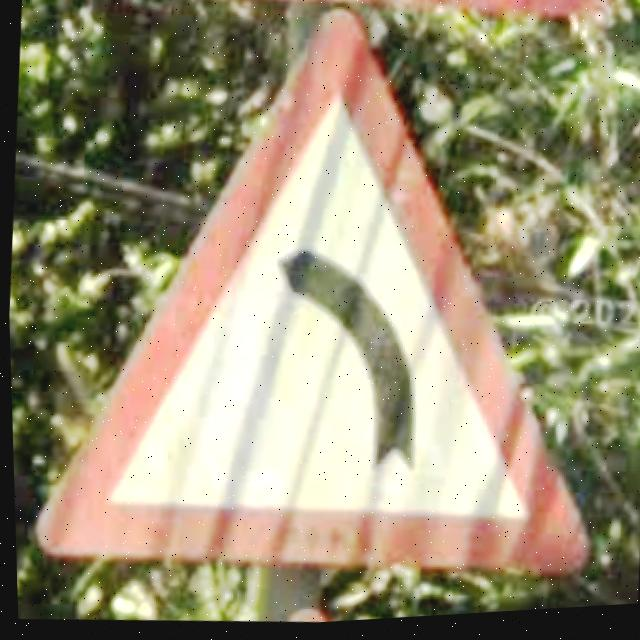leftbend: (35, 17, 587, 582)
